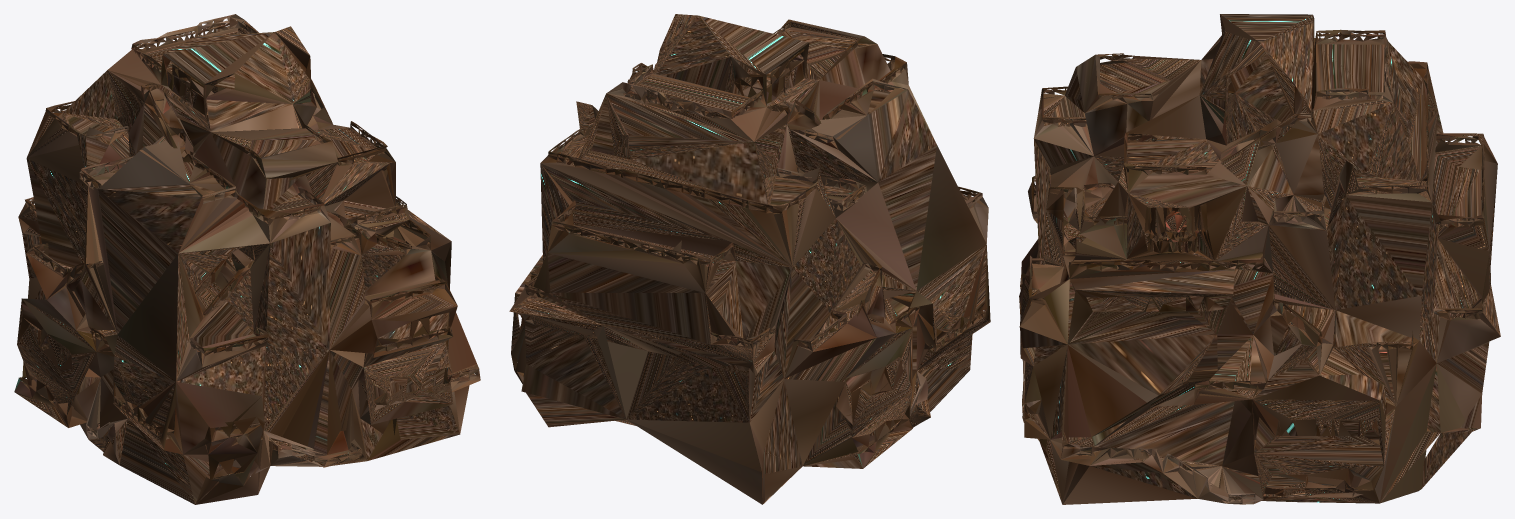
Rendered from o05_far.glb.
The picture shows the model from 3 angles, left to right: view 1: azimuth 30°, elevation 25°; view 2: azimuth 150°, elevation 25°; view 3: azimuth 270°, elevation 25°; orthographic projection. The views are drawn at different scales.
Parts seen in each view (by area): view 1: o05_far; view 2: o05_far; view 3: o05_far.
Part boxes in pixels (box(x1,y1,x2,y2)): o05_far: box(14, 14, 480, 504); o05_far: box(509, 14, 990, 504); o05_far: box(1019, 14, 1500, 504).
Bounding box in the file's own units: 38.23 × 40 × 42.12.
1 material, 1 textured.
